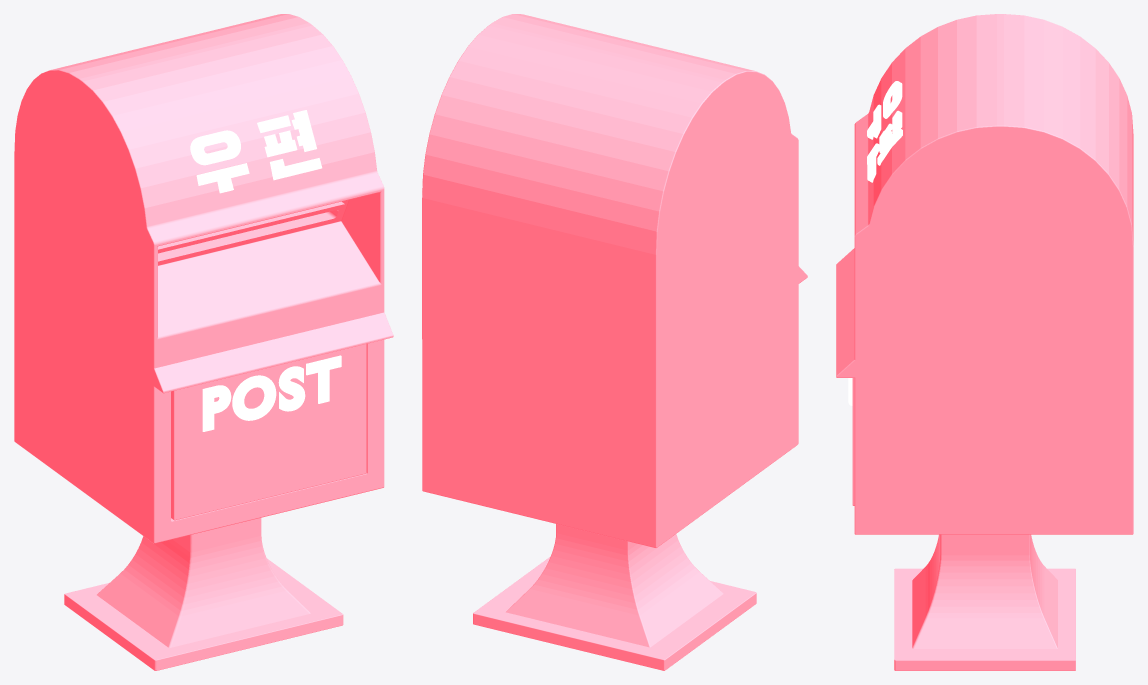
Rendered from PostBox.glb.
3 renders of one model, left to right at view 1: azimuth 30°, elevation 25°; view 2: azimuth 150°, elevation 25°; view 3: azimuth 270°, elevation 25°, orthographic. The views are drawn at different scales.
Visible parts, largest first — view 1: Cube.001, Text.001, Text; view 2: Cube.001; view 3: Cube.001, Text.001.
Part boxes in pixels (bbox=[...]): Cube.001: bbox=[14, 14, 393, 670]; Text.001: bbox=[190, 110, 322, 193]; Text: bbox=[202, 355, 341, 431]; Cube.001: bbox=[422, 14, 807, 670]; Cube.001: bbox=[836, 14, 1133, 670]; Text.001: bbox=[867, 81, 902, 182].
Bounding box in the file's own units: 2.66 × 6.14 × 2.98.
